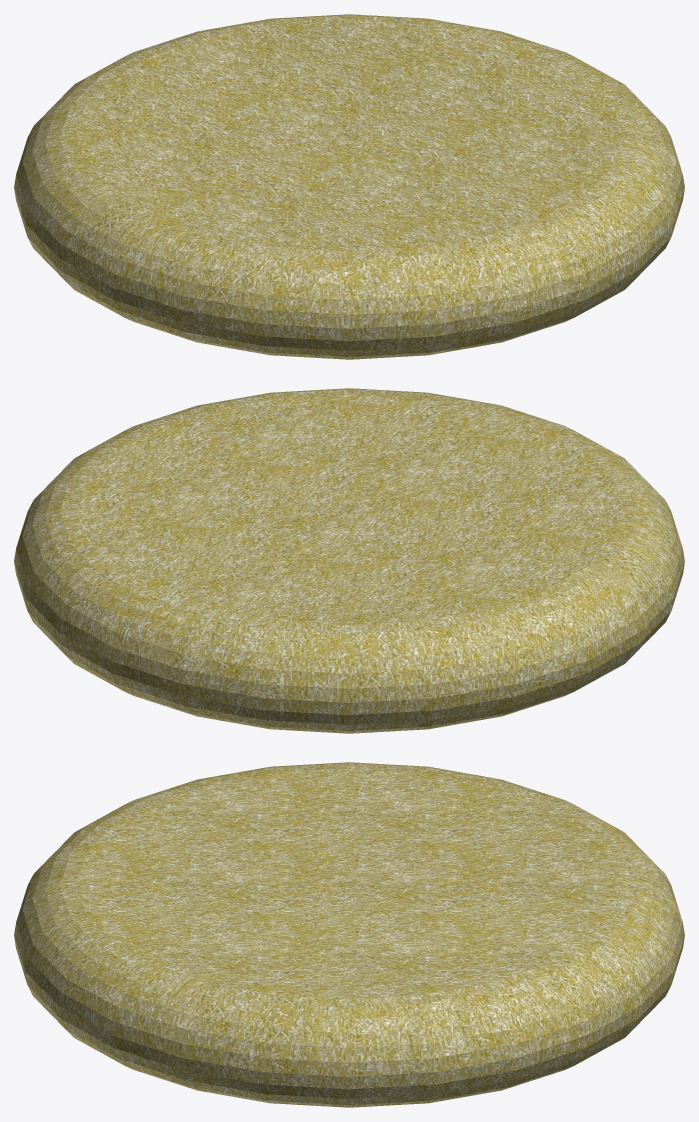
3 renders of one model, top to bottom at view 1: azimuth 30°, elevation 25°; view 2: azimuth 150°, elevation 25°; view 3: azimuth 270°, elevation 25°, orthographic.
Parts seen in each view (by area): view 1: SketchUp; view 2: SketchUp; view 3: SketchUp.
Boxes of the visible parts, <box> form: SketchUp: <box>14,14,684,359</box>; SketchUp: <box>14,388,684,733</box>; SketchUp: <box>14,762,684,1107</box>.
Bounding box in the file's own units: 410 × 410 × 68.51.
1 material, 1 textured.
